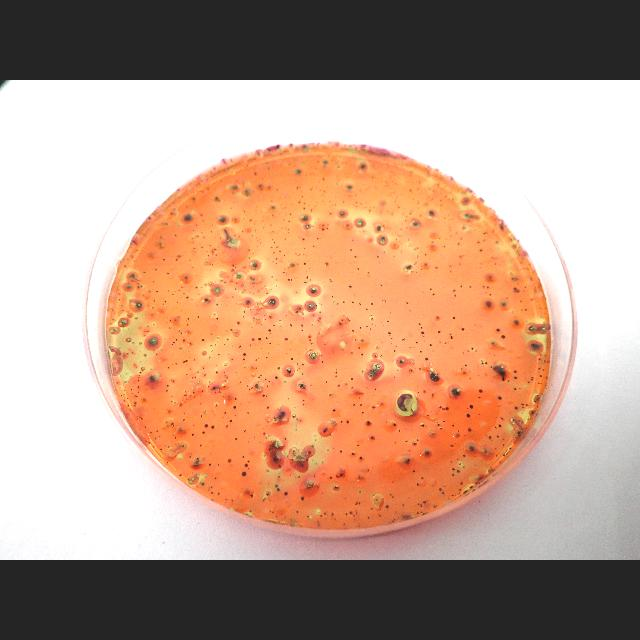colony: (224, 235, 240, 247), (368, 360, 382, 372), (304, 478, 316, 489), (485, 273, 497, 283), (354, 218, 366, 228), (430, 370, 440, 382), (451, 387, 462, 397), (134, 300, 144, 310), (308, 350, 318, 360), (149, 336, 159, 346), (183, 212, 193, 222), (266, 298, 278, 306), (530, 342, 540, 351), (484, 300, 494, 308), (410, 220, 420, 228), (378, 199, 388, 207), (379, 235, 387, 245), (300, 214, 310, 222), (466, 444, 476, 452), (512, 318, 520, 326), (500, 300, 508, 308), (339, 209, 347, 217), (375, 224, 383, 232), (235, 272, 243, 280), (213, 286, 221, 294), (285, 366, 293, 374), (298, 382, 306, 390), (278, 411, 286, 419), (148, 374, 156, 382), (218, 215, 226, 223), (367, 372, 375, 380), (329, 418, 337, 426), (498, 368, 506, 376), (250, 262, 260, 268), (345, 183, 353, 190), (403, 264, 412, 270), (528, 324, 534, 332), (517, 430, 523, 438), (540, 326, 548, 332), (244, 299, 252, 305), (182, 275, 190, 281), (244, 188, 252, 194), (294, 169, 302, 175), (499, 223, 505, 231), (428, 210, 434, 217), (344, 222, 351, 228), (360, 163, 366, 170), (500, 334, 506, 340), (460, 326, 466, 332), (468, 404, 474, 410), (304, 223, 310, 229), (290, 262, 296, 268), (204, 298, 210, 304), (308, 303, 314, 309), (214, 195, 220, 201), (232, 184, 238, 190), (258, 183, 264, 189), (322, 159, 328, 165), (464, 212, 470, 218), (272, 456, 278, 462), (241, 471, 247, 477), (365, 420, 371, 426), (424, 450, 430, 456), (483, 448, 489, 454), (462, 370, 468, 376), (128, 274, 136, 278), (120, 320, 128, 324), (495, 328, 501, 332), (479, 388, 483, 394), (422, 202, 428, 206), (422, 262, 428, 266), (125, 285, 131, 289), (273, 416, 277, 422), (196, 457, 200, 463), (167, 408, 171, 414), (113, 328, 119, 332), (192, 196, 196, 202), (270, 205, 276, 209), (224, 229, 228, 235), (302, 144, 306, 150), (434, 316, 440, 320), (322, 428, 328, 432), (284, 490, 288, 496), (266, 490, 270, 496), (334, 484, 338, 490), (351, 450, 355, 456), (405, 458, 411, 462), (420, 423, 426, 427), (466, 428, 472, 432), (463, 490, 469, 494), (478, 476, 484, 480), (501, 376, 505, 382), (370, 405, 376, 409), (491, 342, 495, 346), (437, 330, 441, 334), (498, 396, 502, 400), (466, 413, 470, 417), (498, 424, 502, 428), (488, 435, 492, 439), (530, 410, 534, 414), (524, 308, 528, 312), (520, 308, 524, 312), (452, 288, 456, 292), (511, 277, 515, 281), (510, 271, 514, 275), (479, 248, 483, 252), (494, 240, 498, 244), (482, 238, 486, 242), (448, 196, 452, 200), (409, 188, 413, 192), (434, 266, 438, 270), (458, 262, 462, 266), (458, 255, 462, 259), (497, 268, 501, 272), (303, 262, 307, 266), (236, 321, 240, 325), (215, 302, 219, 306), (195, 286, 199, 290), (152, 322, 156, 326), (134, 316, 138, 320), (118, 292, 122, 296), (140, 284, 144, 288), (142, 270, 146, 274), (154, 268, 158, 272), (201, 338, 205, 342), (242, 352, 246, 356), (255, 384, 259, 388), (274, 376, 278, 380), (268, 328, 272, 332), (295, 310, 299, 314), (300, 324, 304, 328), (298, 306, 302, 310), (342, 300, 346, 304), (348, 284, 352, 288), (204, 424, 208, 428), (227, 458, 231, 462), (142, 397, 146, 401), (179, 346, 183, 350), (296, 186, 300, 190), (249, 218, 253, 222), (177, 314, 181, 318), (173, 318, 177, 322), (124, 372, 128, 376), (310, 208, 314, 212), (322, 177, 326, 181), (452, 316, 456, 320), (421, 331, 425, 335), (360, 338, 364, 342), (329, 392, 333, 396), (337, 384, 341, 388), (346, 420, 350, 424), (308, 450, 312, 454), (278, 464, 282, 468), (244, 463, 248, 467), (274, 484, 278, 488), (276, 488, 280, 492), (300, 496, 304, 500), (385, 504, 389, 508), (335, 474, 339, 478), (292, 414, 296, 418), (359, 456, 363, 460), (370, 435, 374, 439), (398, 429, 402, 433), (450, 444, 454, 448), (462, 454, 466, 458), (458, 488, 462, 492), (502, 453, 506, 457), (513, 369, 517, 373), (514, 375, 518, 379), (494, 366, 498, 370), (432, 292, 436, 296), (324, 262, 328, 266), (357, 267, 361, 271), (329, 278, 333, 282), (380, 283, 384, 287), (402, 337, 406, 341), (311, 444, 315, 448), (496, 434, 499, 438), (514, 406, 518, 409), (477, 240, 481, 243), (444, 195, 448, 198), (382, 250, 386, 253), (416, 254, 419, 258), (424, 252, 428, 255), (365, 237, 369, 240), (252, 316, 255, 320), (230, 328, 233, 332), (212, 312, 215, 316), (202, 260, 205, 264), (208, 245, 212, 248), (187, 322, 190, 326), (168, 326, 172, 329), (182, 338, 185, 342), (242, 358, 245, 362), (215, 371, 219, 374), (170, 394, 173, 398), (212, 386, 216, 389), (218, 391, 222, 394), (371, 302, 374, 306), (266, 406, 270, 409), (197, 474, 200, 478), (164, 222, 168, 225), (298, 200, 302, 203), (242, 216, 245, 220), (148, 217, 152, 220), (200, 213, 203, 217), (178, 255, 182, 258), (118, 386, 122, 389), (342, 200, 346, 203), (328, 212, 332, 215), (339, 421, 343, 424), (250, 494, 253, 498), (349, 511, 353, 514), (358, 491, 362, 494), (278, 406, 282, 409), (326, 448, 329, 452), (508, 446, 512, 449), (408, 346, 412, 349), (215, 402, 218, 406), (431, 240, 434, 243), (496, 247, 499, 250), (235, 331, 238, 334), (182, 361, 185, 364), (210, 230, 213, 233), (197, 235, 200, 238), (190, 237, 193, 240), (371, 506, 374, 509), (326, 222, 329, 225), (351, 386, 354, 389), (471, 346, 473, 350), (484, 362, 488, 364), (464, 364, 468, 366), (500, 418, 504, 420), (512, 418, 514, 422), (518, 387, 522, 389), (530, 379, 534, 381), (540, 374, 542, 378), (488, 294, 492, 296), (482, 286, 486, 288), (468, 286, 472, 288), (460, 284, 462, 288), (494, 262, 496, 266), (478, 267, 482, 269), (482, 232, 486, 234), (474, 228, 476, 232), (405, 218, 407, 222), (396, 238, 398, 242), (480, 262, 482, 266), (508, 264, 512, 266), (374, 236, 378, 238), (372, 242, 376, 244), (350, 248, 352, 252), (302, 238, 306, 240), (278, 250, 282, 252), (272, 252, 276, 254), (275, 262, 277, 266), (288, 278, 290, 282), (290, 278, 292, 282), (306, 275, 308, 279), (284, 272, 288, 274), (266, 286, 268, 290), (244, 310, 246, 314), (221, 302, 223, 306), (210, 282, 212, 286), (185, 296, 189, 298), (128, 300, 132, 302), (147, 290, 151, 292), (128, 314, 132, 316), (176, 258, 178, 262), (188, 259, 192, 261), (207, 260, 209, 264), (179, 328, 181, 332), (172, 342, 174, 346), (208, 356, 212, 358), (238, 346, 242, 348), (228, 352, 230, 356), (156, 352, 158, 356), (218, 387, 222, 389), (233, 406, 237, 408), (248, 388, 250, 392), (262, 394, 266, 396), (266, 384, 268, 388), (252, 372, 254, 376), (255, 358, 257, 362), (278, 366, 280, 370), (252, 337, 254, 341), (258, 338, 262, 340), (284, 338, 288, 340), (290, 323, 292, 327), (272, 325, 276, 327), (278, 323, 282, 325), (308, 339, 312, 341), (332, 300, 336, 302), (352, 300, 354, 304), (359, 302, 361, 306), (342, 318, 344, 322), (296, 362, 298, 366), (290, 358, 294, 360), (302, 372, 304, 376), (226, 424, 228, 428), (212, 425, 214, 429), (200, 414, 202, 418), (204, 410, 206, 414), (182, 444, 184, 448), (171, 422, 173, 426), (202, 482, 204, 486), (218, 492, 220, 496), (138, 342, 142, 344), (276, 188, 278, 192), (302, 208, 306, 210), (254, 228, 256, 232), (262, 226, 266, 228), (193, 228, 195, 232), (338, 165, 340, 169), (310, 188, 312, 192), (334, 196, 338, 198), (388, 332, 392, 334), (425, 358, 429, 360), (410, 368, 412, 372), (362, 369, 364, 373), (374, 354, 378, 356), (335, 374, 337, 378), (352, 404, 356, 406), (332, 410, 336, 412), (314, 439, 318, 441), (300, 464, 304, 466), (262, 432, 266, 434), (263, 498, 265, 502), (231, 498, 233, 502), (296, 510, 298, 514), (320, 514, 322, 518), (324, 511, 326, 515), (332, 512, 334, 516), (345, 512, 347, 516), (368, 516, 370, 520), (372, 494, 376, 496), (340, 474, 344, 476), (329, 476, 333, 478), (313, 474, 315, 478), (322, 460, 324, 464), (302, 404, 306, 406), (340, 450, 342, 454), (394, 422, 396, 426), (417, 438, 419, 442), (438, 406, 442, 408), (446, 406, 448, 410), (442, 408, 446, 410), (452, 424, 454, 428), (452, 468, 456, 470), (456, 470, 460, 472), (458, 463, 462, 465), (462, 466, 466, 468), (496, 454, 498, 458), (544, 359, 546, 363), (254, 172, 256, 176), (374, 388, 378, 390), (547, 360, 549, 364), (286, 454, 288, 458), (317, 484, 319, 488), (294, 428, 298, 430), (466, 350, 469, 352), (481, 360, 484, 362), (538, 366, 540, 369), (486, 286, 489, 288), (458, 242, 460, 245), (450, 235, 452, 238), (439, 237, 441, 240), (409, 212, 411, 215), (419, 215, 421, 218), (408, 245, 410, 248), (326, 227, 328, 230), (312, 225, 314, 228), (290, 212, 292, 215), (271, 247, 273, 250), (182, 293, 185, 295), (180, 286, 183, 288), (167, 272, 170, 274), (162, 258, 165, 260), (207, 255, 210, 257), (192, 247, 195, 249), (212, 250, 214, 253), (197, 316, 200, 318), (230, 345, 233, 347), (230, 358, 233, 360), (197, 371, 199, 374), (167, 384, 170, 386), (170, 400, 173, 402), (209, 381, 211, 384), (198, 381, 200, 384), (235, 398, 238, 400), (247, 384, 250, 386), (251, 386, 253, 389), (240, 381, 242, 384), (265, 336, 267, 339), (336, 303, 339, 305), (360, 326, 362, 329), (322, 361, 324, 364), (235, 438, 238, 440), (202, 432, 205, 434), (182, 419, 185, 421), (175, 436, 177, 439), (180, 456, 182, 459), (190, 481, 192, 484), (178, 225, 180, 228), (170, 212, 172, 215), (202, 190, 204, 193), (304, 202, 306, 205), (195, 235, 197, 238), (200, 180, 203, 182), (202, 220, 205, 222), (186, 205, 188, 208), (219, 237, 221, 240), (421, 326, 423, 329), (386, 321, 389, 323), (420, 351, 422, 354), (351, 378, 354, 380), (361, 354, 364, 356), (358, 346, 360, 349), (351, 352, 354, 354), (326, 381, 328, 384), (358, 396, 360, 399), (247, 460, 250, 462), (264, 496, 266, 499), (210, 498, 213, 500), (356, 444, 359, 446), (436, 424, 439, 426), (461, 482, 464, 484), (468, 371, 470, 374), (366, 272, 369, 274), (418, 391, 420, 394), (416, 385, 419, 387), (475, 350, 477, 352), (444, 342, 446, 344), (451, 337, 453, 339), (450, 335, 452, 337), (450, 333, 452, 335), (460, 368, 462, 370), (482, 362, 484, 364), (490, 365, 492, 367), (478, 397, 480, 399), (467, 407, 469, 409), (495, 426, 497, 428), (502, 444, 504, 446), (518, 420, 520, 422), (528, 418, 530, 420), (521, 428, 523, 430), (522, 404, 524, 406), (526, 404, 528, 406), (522, 406, 524, 408), (534, 400, 536, 402), (514, 388, 516, 390), (528, 381, 530, 383), (531, 376, 533, 378), (545, 376, 547, 378), (540, 383, 542, 385), (538, 382, 540, 384), (542, 369, 544, 371), (538, 358, 540, 360), (506, 297, 508, 299), (520, 300, 522, 302), (530, 299, 532, 301), (526, 321, 528, 323), (511, 311, 513, 313), (540, 316, 542, 318), (539, 307, 541, 309), (485, 292, 487, 294), (454, 294, 456, 296), (514, 288, 516, 290), (524, 286, 526, 288), (523, 290, 525, 292), (517, 283, 519, 285), (466, 230, 468, 232), (460, 238, 462, 240), (455, 232, 457, 234), (443, 245, 445, 247), (449, 229, 451, 231), (406, 227, 408, 229), (400, 228, 402, 230), (406, 216, 408, 218), (402, 213, 404, 215), (440, 200, 442, 202), (440, 204, 442, 206), (398, 207, 400, 209), (394, 200, 396, 202), (387, 210, 389, 212), (369, 210, 371, 212), (383, 224, 385, 226), (386, 227, 388, 229), (388, 221, 390, 223), (408, 239, 410, 241), (408, 242, 410, 244), (405, 245, 407, 247), (393, 255, 395, 257), (377, 256, 379, 258), (401, 250, 403, 252), (417, 247, 419, 249), (415, 262, 417, 264), (414, 263, 416, 265), (415, 271, 417, 273), (421, 268, 423, 270), (449, 270, 451, 272), (491, 256, 493, 258), (489, 247, 491, 249), (414, 248, 416, 250), (352, 239, 354, 241), (354, 256, 356, 258), (322, 228, 324, 230), (317, 238, 319, 240), (313, 245, 315, 247), (298, 236, 300, 238), (315, 221, 317, 223), (318, 218, 320, 220), (288, 220, 290, 222), (288, 229, 290, 231), (288, 232, 290, 234), (300, 237, 302, 239), (304, 247, 306, 249), (285, 238, 287, 240), (274, 241, 276, 243), (271, 239, 273, 241), (272, 230, 274, 232), (256, 245, 258, 247), (248, 249, 250, 251), (248, 257, 250, 259), (254, 268, 256, 270), (276, 246, 278, 248), (283, 254, 285, 256), (276, 258, 278, 260), (272, 260, 274, 262), (271, 276, 273, 278), (309, 279, 311, 281), (304, 281, 306, 283), (317, 282, 319, 284), (284, 268, 286, 270), (282, 272, 284, 274), (261, 287, 263, 289), (266, 292, 268, 294), (264, 285, 266, 287), (265, 285, 267, 287), (276, 285, 278, 287), (250, 277, 252, 279), (252, 286, 254, 288), (249, 292, 251, 294), (242, 316, 244, 318), (249, 308, 251, 310), (247, 307, 249, 309), (256, 303, 258, 305), (260, 300, 262, 302), (269, 315, 271, 317), (264, 319, 266, 321), (261, 323, 263, 325), (258, 318, 260, 320), (226, 330, 228, 332), (216, 318, 218, 320), (232, 296, 234, 298), (234, 288, 236, 290), (238, 290, 240, 292), (236, 283, 238, 285), (224, 281, 226, 283), (221, 279, 223, 281), (220, 281, 222, 283), (214, 281, 216, 283), (205, 284, 207, 286), (201, 287, 203, 289), (201, 296, 203, 298), (191, 299, 193, 301), (198, 293, 200, 295), (174, 290, 176, 292), (172, 293, 174, 295), (177, 301, 179, 303), (168, 290, 170, 292), (156, 290, 158, 292), (164, 300, 166, 302), (162, 303, 164, 305), (154, 300, 156, 302), (151, 307, 153, 309), (126, 296, 128, 298), (142, 294, 144, 296), (122, 309, 124, 311), (121, 305, 123, 307), (118, 299, 120, 301), (138, 286, 140, 288), (153, 281, 155, 283), (137, 279, 139, 281), (137, 283, 139, 285), (128, 282, 130, 284), (178, 276, 180, 278), (192, 267, 194, 269), (211, 264, 213, 266), (205, 272, 207, 274), (214, 248, 216, 250), (201, 246, 203, 248), (216, 254, 218, 256), (212, 253, 214, 255), (232, 264, 234, 266), (235, 266, 237, 268), (222, 274, 224, 276), (221, 270, 223, 272), (216, 296, 218, 298), (208, 288, 210, 290), (187, 318, 189, 320), (185, 320, 187, 322), (169, 319, 171, 321), (181, 332, 183, 334), (166, 322, 168, 324), (173, 336, 175, 338), (176, 339, 178, 341), (169, 338, 171, 340), (164, 338, 166, 340), (173, 342, 175, 344), (190, 342, 192, 344), (205, 346, 207, 348), (210, 344, 212, 346), (214, 344, 216, 346), (211, 350, 213, 352), (218, 354, 220, 356), (210, 333, 212, 335), (224, 343, 226, 345), (227, 339, 229, 341), (203, 367, 205, 369), (204, 374, 206, 376), (190, 368, 192, 370), (194, 376, 196, 378), (192, 377, 194, 379), (186, 373, 188, 375), (186, 360, 188, 362), (188, 356, 190, 358), (194, 359, 196, 361), (188, 350, 190, 352), (175, 363, 177, 365), (168, 367, 170, 369), (171, 379, 173, 381), (173, 380, 175, 382), (166, 390, 168, 392), (184, 390, 186, 392), (193, 392, 195, 394), (202, 390, 204, 392), (194, 396, 196, 398), (199, 403, 201, 405), (207, 386, 209, 388), (210, 389, 212, 391), (214, 391, 216, 393), (266, 395, 268, 397), (265, 378, 267, 380), (268, 381, 270, 383), (260, 374, 262, 376), (258, 376, 260, 378), (244, 366, 246, 368), (236, 371, 238, 373), (256, 367, 258, 369), (265, 356, 267, 358), (267, 352, 269, 354), (260, 347, 262, 349), (250, 344, 252, 346), (269, 342, 271, 344), (278, 321, 282, 322), (301, 313, 303, 315), (286, 314, 288, 316), (301, 330, 303, 332), (311, 343, 313, 345), (311, 324, 313, 326), (318, 319, 320, 321), (319, 311, 321, 313), (318, 302, 320, 304), (321, 304, 323, 306), (294, 300, 296, 302), (332, 296, 334, 298), (366, 308, 368, 310), (371, 314, 373, 316), (372, 318, 374, 320), (348, 320, 350, 322), (352, 330, 354, 332), (366, 325, 368, 327), (369, 328, 371, 330), (312, 314, 314, 316), (318, 332, 320, 334), (324, 343, 326, 345), (302, 364, 304, 366), (298, 367, 300, 369), (296, 369, 298, 371), (284, 381, 286, 383), (310, 384, 312, 386), (288, 398, 290, 400), (282, 404, 284, 406), (247, 412, 249, 414), (244, 430, 246, 432), (230, 420, 232, 422), (184, 412, 186, 414), (193, 424, 195, 426), (192, 434, 194, 436), (189, 456, 191, 458), (188, 453, 190, 455), (168, 446, 170, 448), (160, 448, 162, 450), (200, 444, 202, 446), (166, 421, 168, 423), (167, 424, 169, 426), (156, 430, 158, 432), (150, 432, 152, 434), (144, 426, 146, 428), (153, 446, 155, 448), (162, 452, 164, 454), (209, 464, 211, 466), (217, 464, 219, 466), (215, 477, 217, 479), (211, 486, 213, 488), (211, 492, 213, 494), (192, 478, 194, 480), (180, 474, 182, 476), (187, 478, 189, 480), (204, 476, 206, 478), (155, 437, 157, 439), (172, 434, 174, 436), (172, 410, 174, 412), (174, 402, 176, 404), (140, 371, 142, 373), (139, 374, 141, 376), (138, 376, 140, 378), (138, 380, 140, 382), (137, 386, 139, 388), (131, 388, 133, 390), (124, 389, 126, 391), (120, 394, 122, 396), (126, 397, 128, 399), (127, 404, 129, 406), (134, 402, 136, 404), (134, 405, 136, 407), (130, 409, 132, 411), (123, 400, 125, 402), (116, 381, 118, 383), (134, 364, 136, 366), (127, 352, 129, 354), (132, 342, 134, 344), (128, 340, 130, 342), (160, 348, 162, 350), (153, 349, 155, 351), (134, 353, 136, 355), (144, 335, 146, 337), (147, 325, 149, 327), (112, 319, 114, 321), (111, 323, 113, 325), (175, 234, 177, 236), (301, 196, 303, 198), (284, 207, 286, 209), (282, 207, 284, 209), (272, 214, 274, 216), (243, 210, 245, 212), (242, 230, 244, 232), (234, 235, 236, 237), (252, 235, 254, 237), (256, 237, 258, 239), (257, 240, 259, 242), (203, 236, 205, 238), (201, 232, 203, 234), (262, 220, 264, 222), (270, 224, 272, 226), (196, 224, 198, 226), (130, 376, 132, 378), (139, 350, 141, 352), (150, 368, 152, 370), (112, 348, 114, 350), (206, 250, 208, 252), (230, 207, 232, 209), (283, 219, 285, 221), (281, 227, 283, 229), (372, 176, 374, 178), (329, 201, 331, 203), (335, 204, 337, 206), (336, 183, 338, 185), (355, 201, 357, 203), (419, 323, 421, 325), (430, 344, 432, 346), (391, 338, 393, 340), (389, 334, 391, 336), (390, 343, 392, 345), (395, 345, 397, 347), (394, 350, 396, 352), (416, 342, 418, 344), (419, 368, 421, 370), (397, 369, 399, 371), (394, 376, 396, 378), (354, 339, 356, 341), (349, 332, 351, 334), (319, 317, 321, 319), (335, 371, 337, 373), (335, 369, 337, 371), (360, 404, 362, 406), (362, 412, 364, 414), (314, 435, 316, 437), (292, 458, 294, 460), (269, 448, 271, 450), (284, 438, 286, 440), (259, 441, 261, 443), (253, 436, 255, 438), (248, 441, 250, 443), (242, 456, 244, 458), (268, 470, 270, 472), (278, 476, 280, 478), (250, 510, 252, 512), (272, 511, 274, 513), (269, 510, 271, 512), (276, 515, 278, 517), (307, 515, 309, 517), (353, 515, 355, 517), (356, 502, 358, 504), (355, 503, 357, 505), (376, 499, 378, 501), (379, 514, 381, 516), (298, 476, 300, 478), (302, 399, 304, 401), (294, 406, 296, 408), (330, 434, 332, 436), (332, 447, 334, 449), (406, 440, 408, 442), (413, 442, 415, 444), (394, 441, 396, 443), (408, 450, 410, 452), (432, 432, 434, 434), (440, 428, 442, 430), (435, 421, 437, 423), (443, 420, 445, 422), (427, 414, 429, 416), (457, 430, 459, 432), (452, 474, 454, 476), (456, 458, 458, 460), (450, 461, 452, 463), (476, 482, 478, 484), (470, 486, 472, 488), (480, 460, 482, 462), (474, 464, 476, 466), (485, 465, 487, 467), (499, 461, 501, 463), (464, 434, 466, 436), (536, 392, 538, 394), (508, 380, 510, 382), (540, 353, 542, 355), (544, 354, 546, 356), (469, 377, 471, 379), (478, 374, 480, 376), (462, 352, 464, 354), (430, 288, 432, 290), (406, 302, 408, 304), (375, 324, 377, 326), (331, 315, 333, 317), (296, 291, 298, 293), (261, 262, 263, 264), (295, 252, 297, 254), (305, 270, 307, 272), (309, 267, 311, 269), (478, 413, 480, 415), (322, 224, 324, 226), (223, 372, 225, 374), (224, 374, 226, 376), (224, 412, 226, 414), (264, 454, 266, 456), (315, 462, 317, 464), (284, 452, 286, 454), (296, 418, 298, 420), (299, 420, 301, 422), (366, 386, 368, 388), (423, 335, 425, 337), (423, 340, 425, 342), (412, 347, 414, 349), (432, 350, 434, 352), (380, 339, 382, 341), (381, 341, 383, 343), (462, 365, 463, 367), (186, 394, 187, 396), (246, 366, 247, 368), (173, 424, 174, 426), (172, 427, 174, 428), (158, 437, 160, 438), (118, 348, 120, 349), (132, 352, 134, 353), (239, 236, 241, 237), (140, 361, 142, 362), (381, 355, 382, 357), (358, 502, 359, 504), (216, 364, 217, 366), (544, 308, 546, 308), (410, 229, 410, 231), (400, 241, 400, 243), (402, 243, 402, 244), (260, 242, 260, 244), (252, 270, 252, 270), (252, 294, 254, 294), (252, 326, 252, 328), (228, 296, 228, 298), (184, 402, 186, 402), (182, 400, 182, 400), (257, 358, 259, 358), (274, 330, 274, 330), (286, 316, 286, 318), (360, 302, 360, 302), (296, 372, 296, 373), (190, 454, 192, 454), (150, 442, 150, 444), (168, 461, 168, 463), (200, 481, 200, 483), (138, 391, 138, 393), (132, 394, 134, 394), (123, 394, 125, 394), (136, 396, 138, 396), (110, 323, 110, 325), (259, 240, 261, 240), (180, 289, 180, 291), (140, 361, 140, 363), (374, 206, 374, 208), (380, 357, 380, 358), (248, 467, 248, 469), (372, 324, 374, 324), (344, 314, 344, 316), (268, 258, 268, 260), (218, 368, 218, 370)
